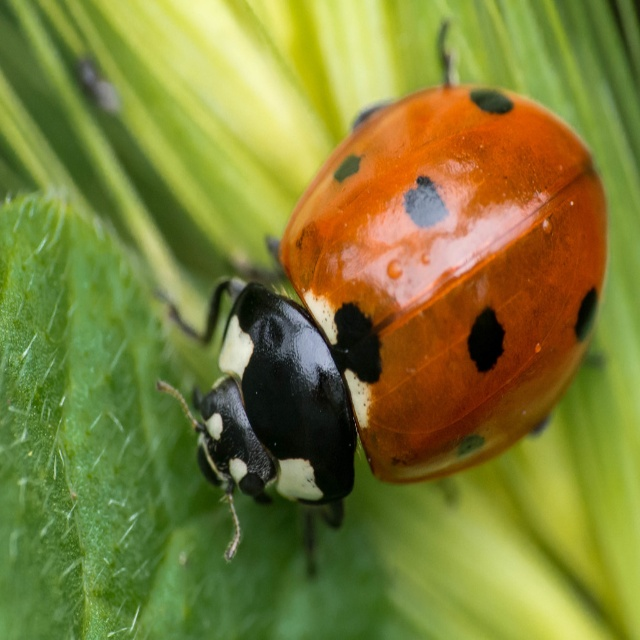Ladybug: (155, 18, 608, 582)
